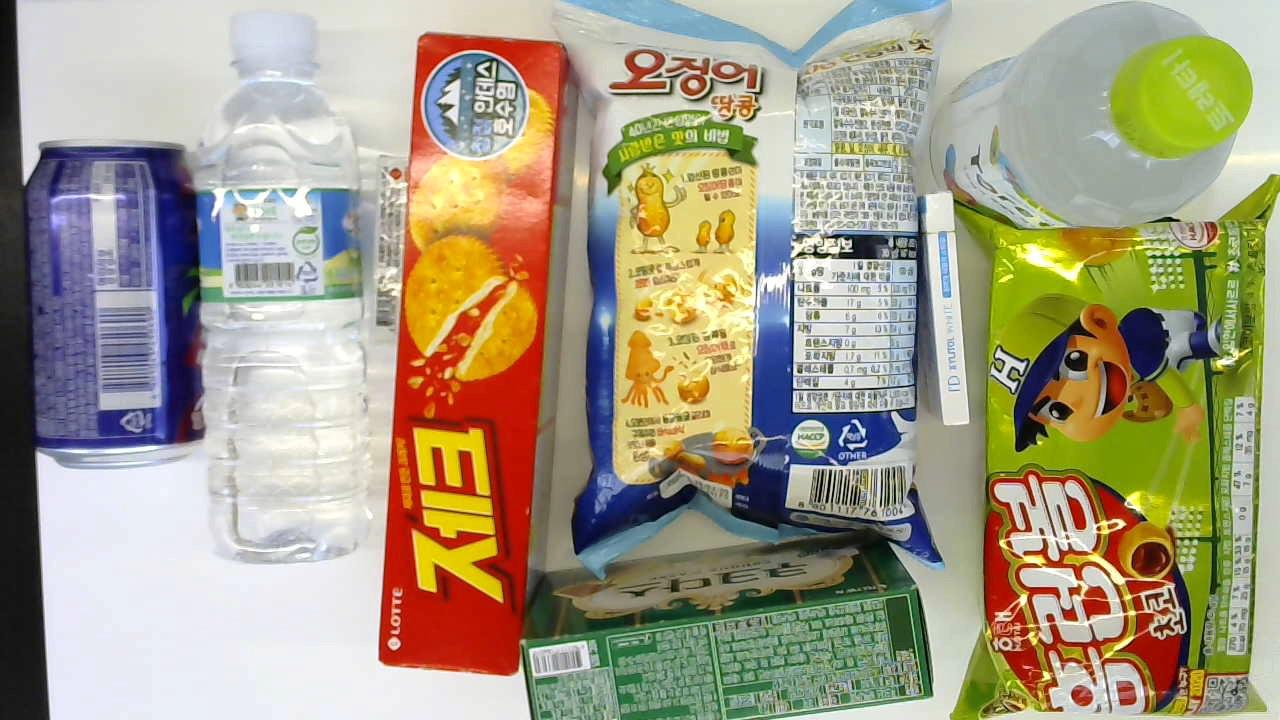ID_gum: (922, 190, 969, 428)
couque_coffee: (522, 549, 933, 719)
homerunball: (941, 175, 1274, 720)
samdasu: (199, 8, 383, 567)
spearmint: (522, 549, 933, 719), (366, 155, 417, 332)
squid_peanut: (559, 0, 940, 564)
toreta: (929, 1, 1257, 228)
welchs: (23, 129, 202, 468)
zec: (375, 30, 581, 674)
